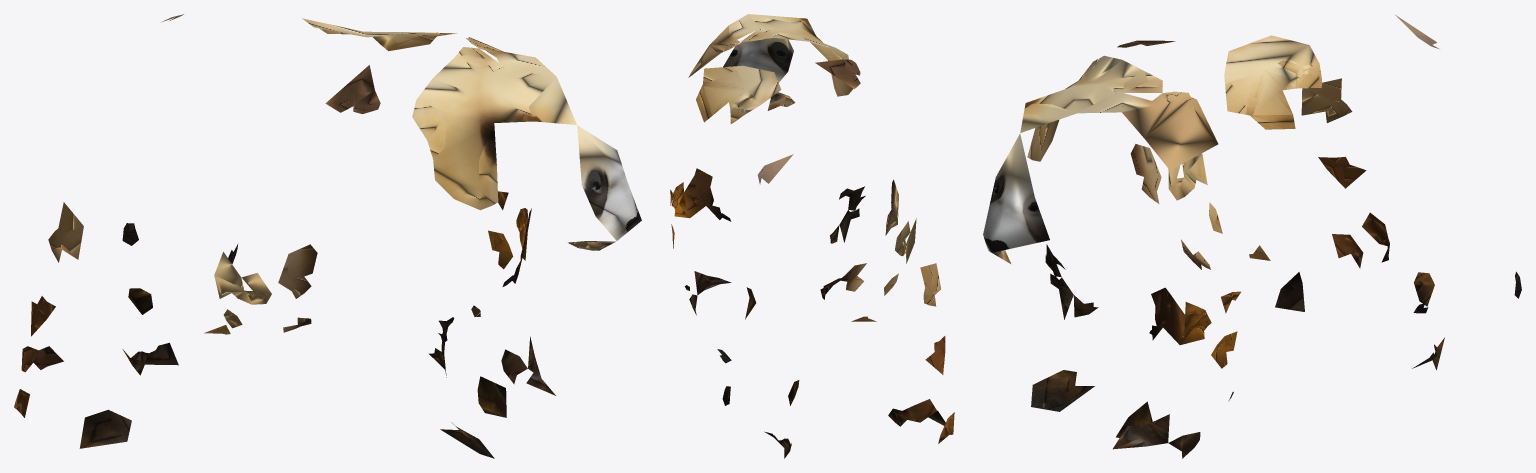
The model's file is panda_brown_single_1500.glb.
3 renders of one model, left to right at view 1: azimuth 30°, elevation 25°; view 2: azimuth 150°, elevation 25°; view 3: azimuth 270°, elevation 25°, orthographic. The views are drawn at different scales.
Bounding box in the file's own units: 0.8471 × 0.6965 × 0.9001.
1 material, 1 textured.
